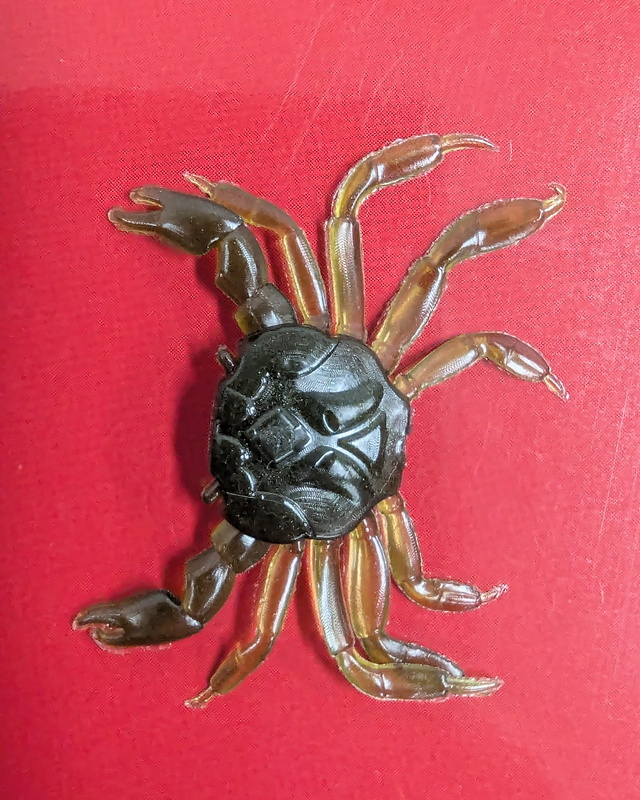crab2: (69, 133, 571, 714)
